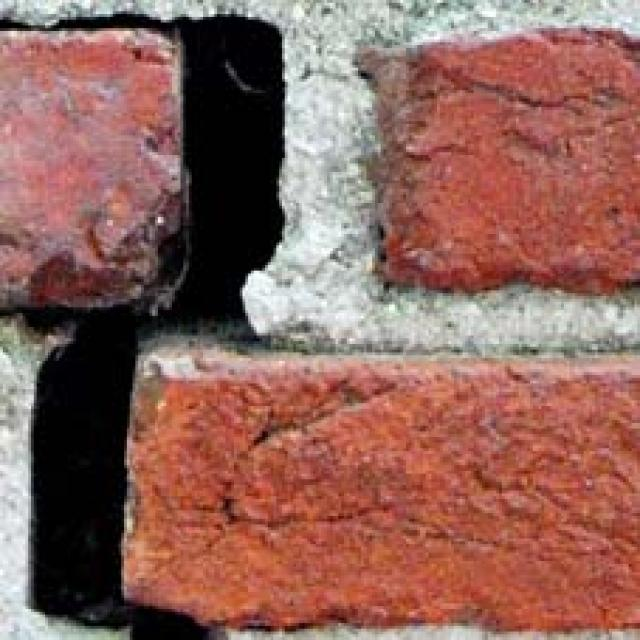Crack: (0, 0, 415, 640)
